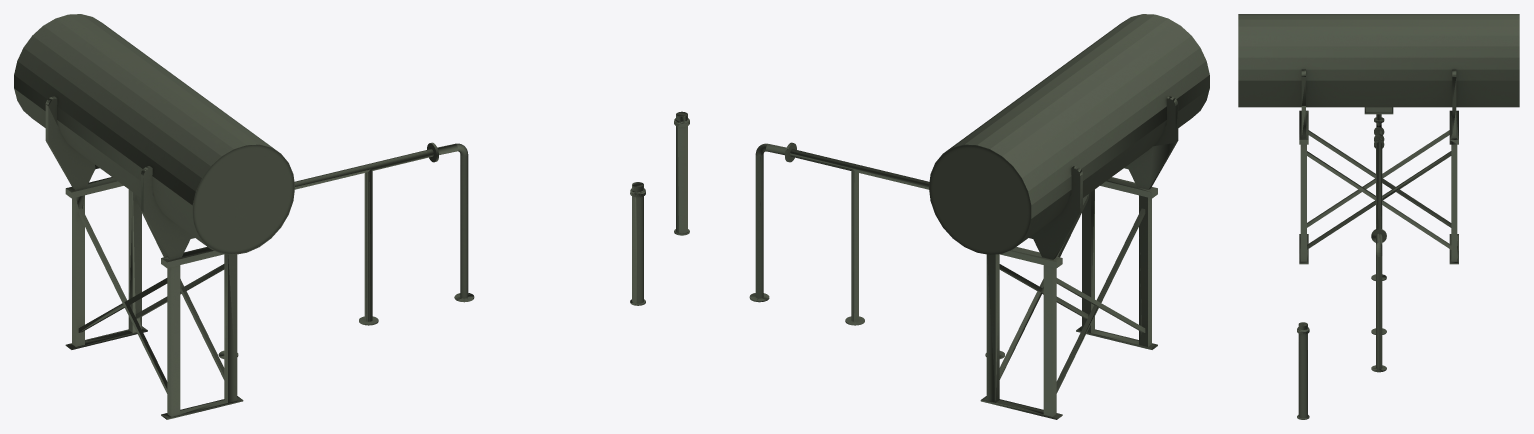
3 renders of one model, left to right at view 1: azimuth 30°, elevation 25°; view 2: azimuth 150°, elevation 25°; view 3: azimuth 270°, elevation 25°, orthographic. The views are drawn at different scales.
Visible parts, largest first — view 1: 21_油枕; view 2: 21_油枕; view 3: 21_油枕.
Boxes of the visible parts, x1,y1,x2,y2 form: 21_油枕: (14,14,645,419); 21_油枕: (674,14,1209,419); 21_油枕: (1238,14,1519,419).
Bounding box in the file's own units: 224 × 125 × 138.
1 material, 1 textured.
